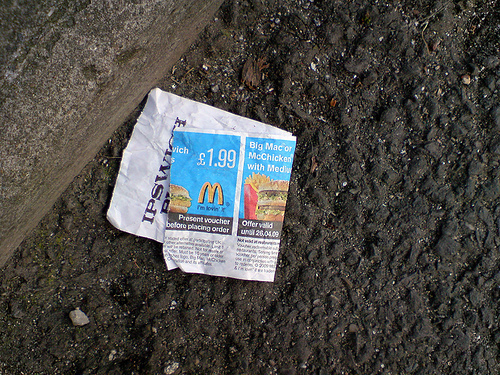litter: (108, 85, 296, 289)
